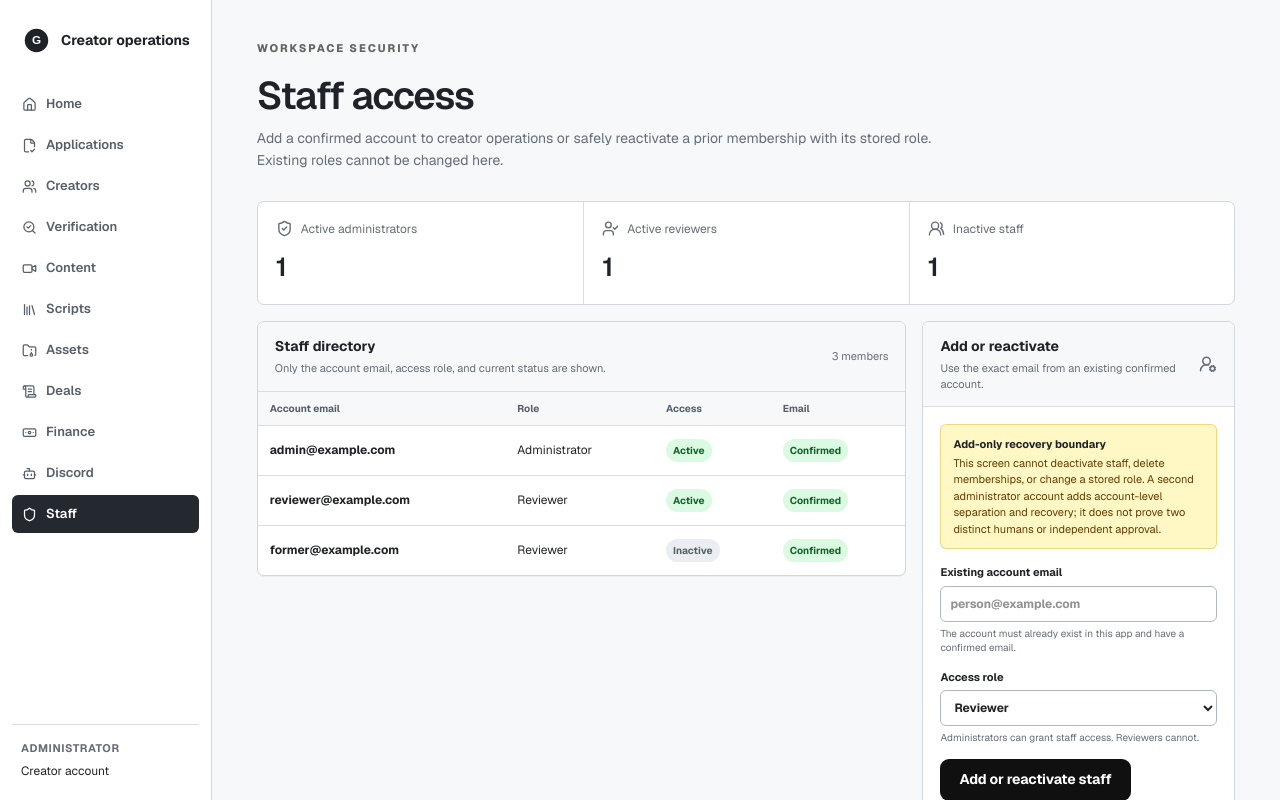
admin staff page › does not claim success or refresh on a rejected access change
Type "missing@example.com" into the field labelled "Existing account email".
click(1079, 604); type("missing@example.com")  # box 940,586 -> 1217,622
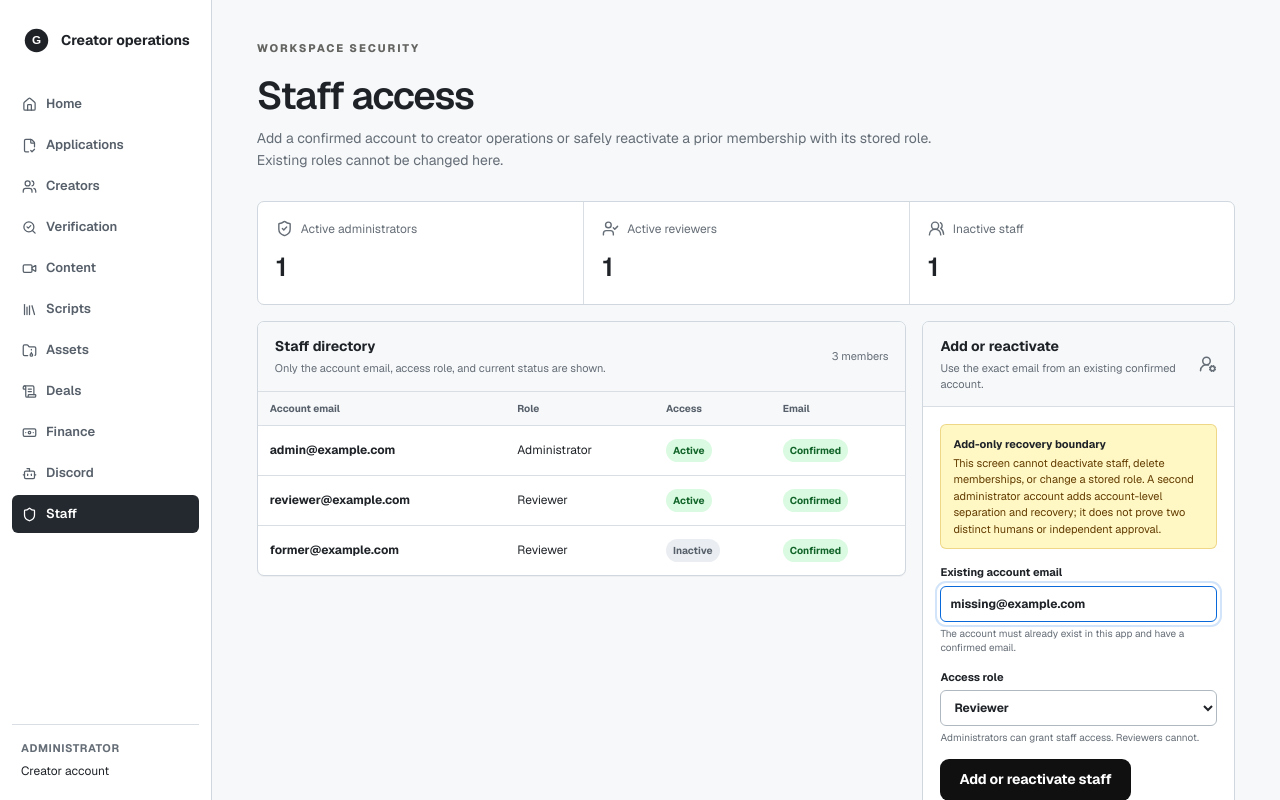
Click the button "Add or reactivate staff".
click(1036, 780)  # box 940,759 -> 1131,799
(page scrolled)
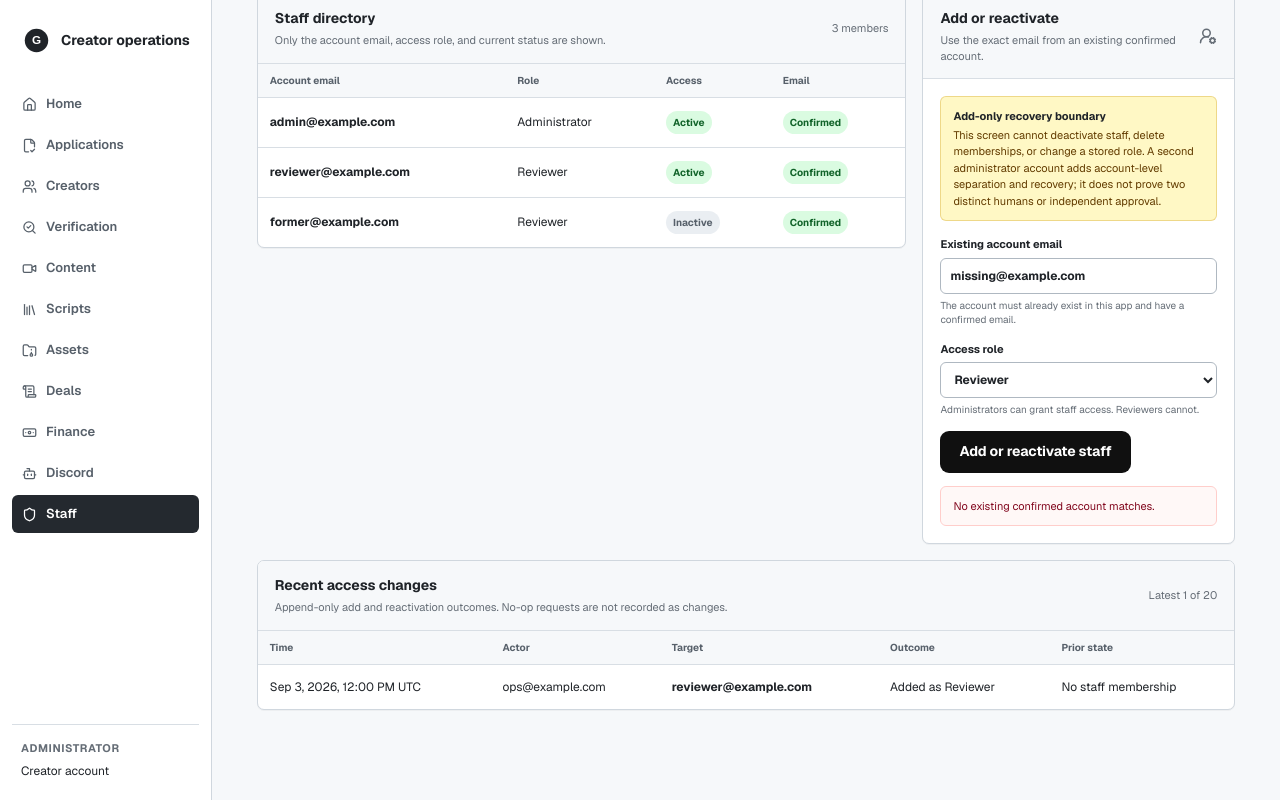
Expected: the message shows "No existing confirmed account", 953,499 -> 1154,513
